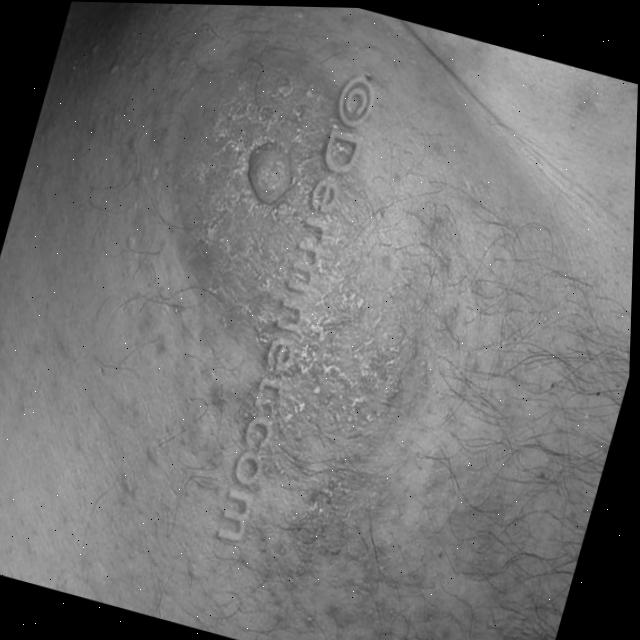Eczema: (87, 49, 488, 557)
